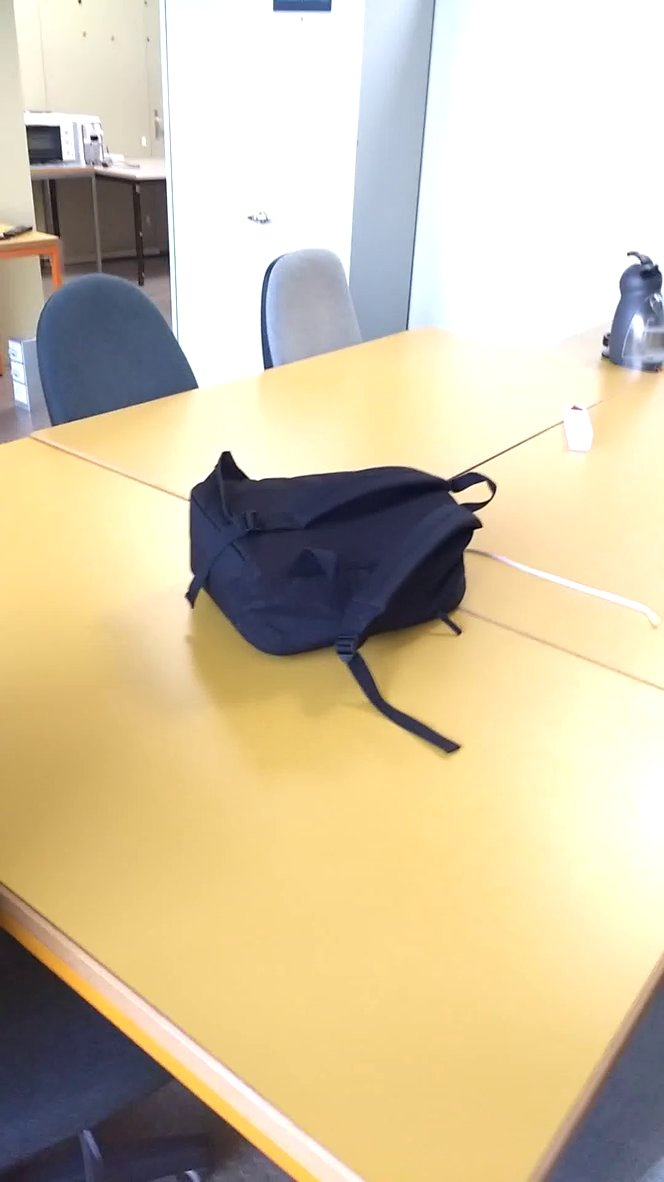bag: (157, 436, 520, 766)
chair: (27, 266, 215, 422), (253, 234, 373, 376)
